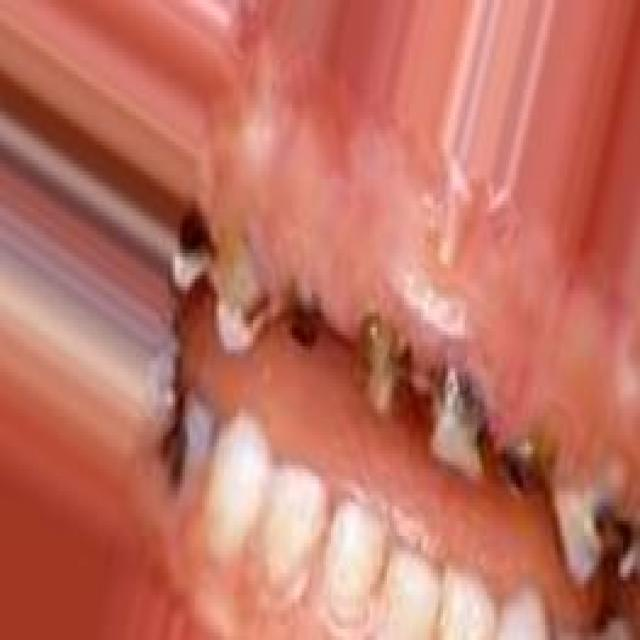caries: (342, 304, 417, 418), (424, 355, 489, 480), (207, 228, 272, 349), (157, 413, 216, 496), (578, 486, 637, 565), (278, 271, 327, 359), (494, 423, 545, 504), (172, 205, 218, 292)
